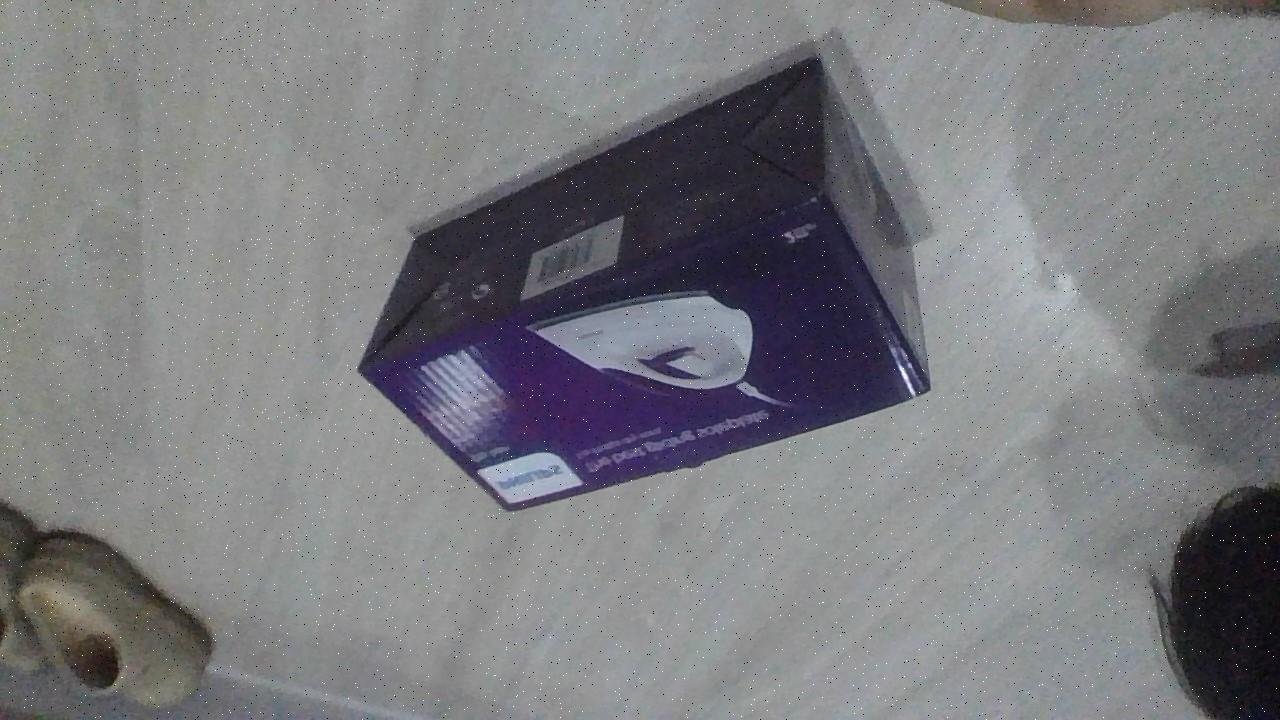IRON: (354, 43, 936, 518)
